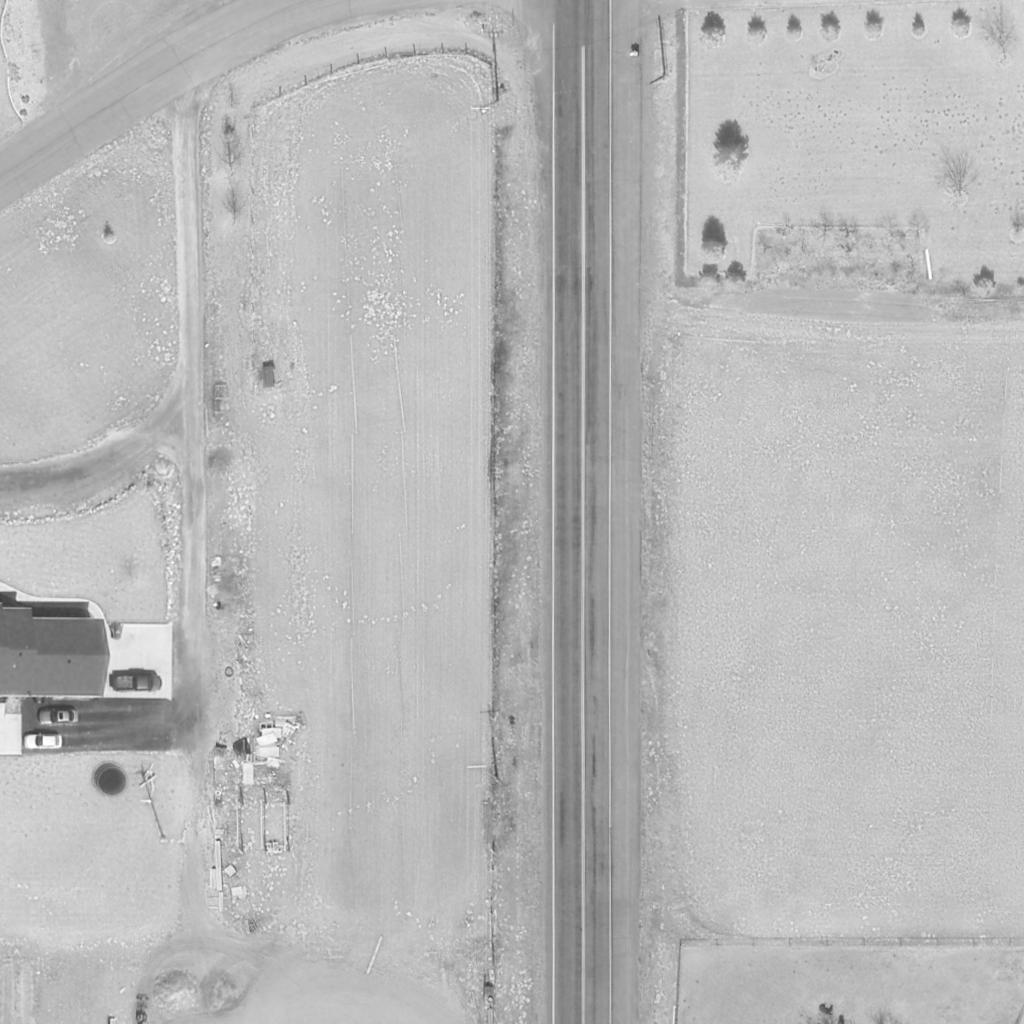vehicle: (111, 674, 165, 692), (24, 733, 64, 751), (37, 709, 81, 725)
